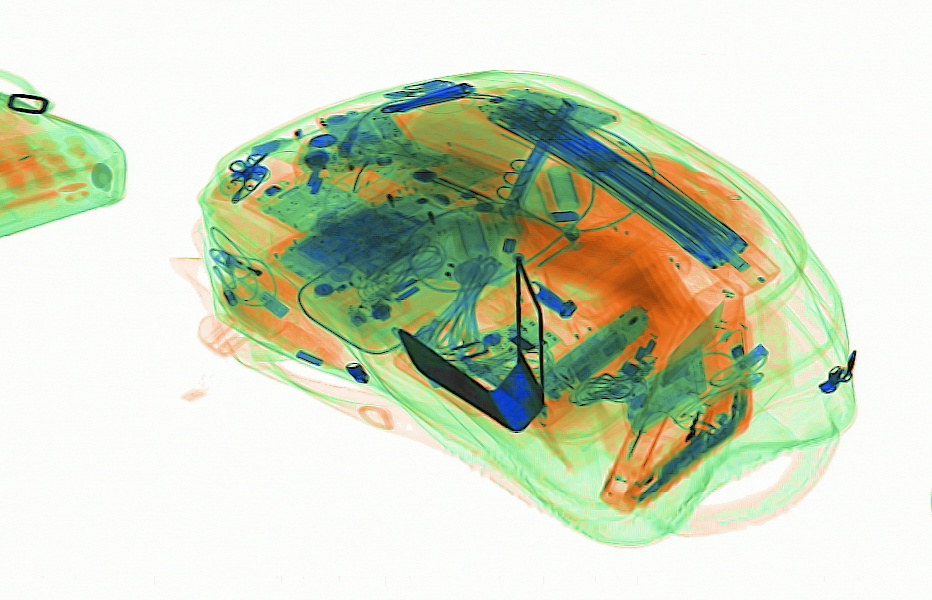lighter: (213, 247, 300, 302)
